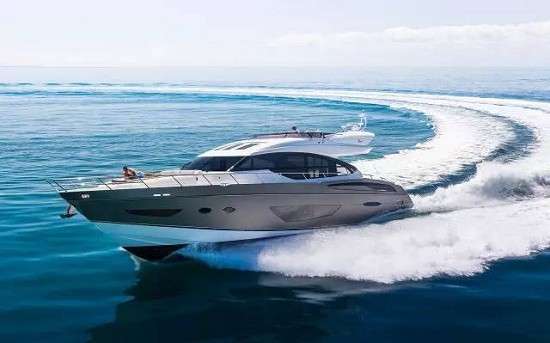yacht: (46, 118, 415, 228)
